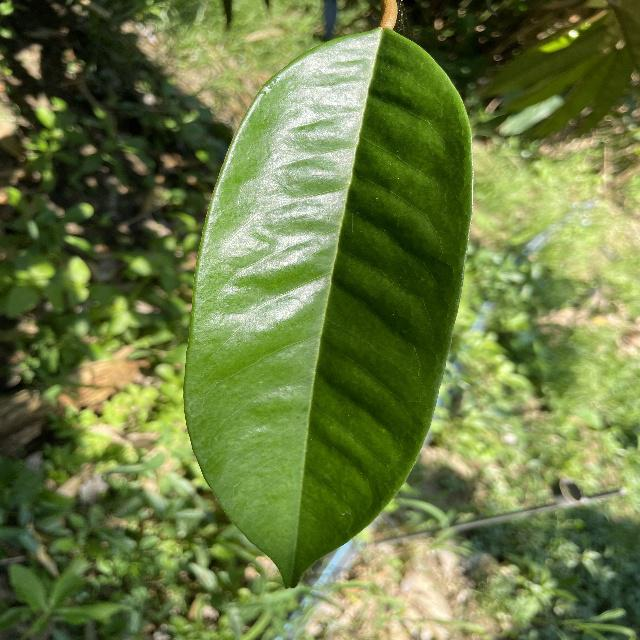No Disease: (175, 9, 477, 592)
